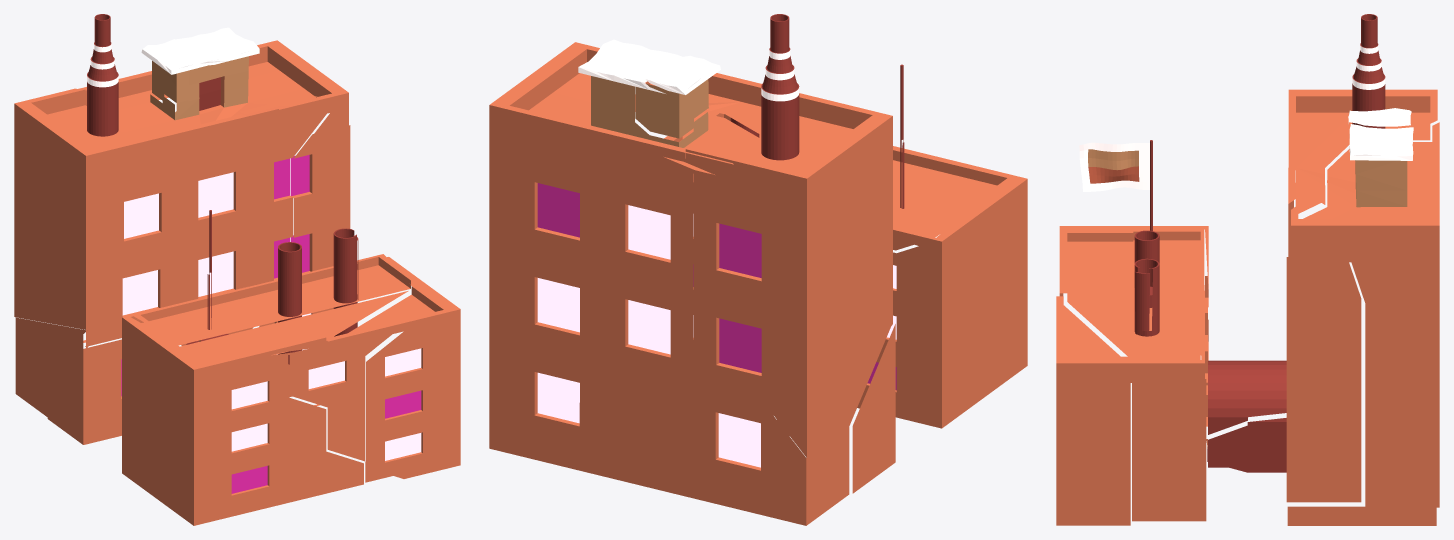
The model's file is factory-explosion.glb.
3 renders of one model, left to right at view 1: azimuth 30°, elevation 25°; view 2: azimuth 150°, elevation 25°; view 3: azimuth 270°, elevation 25°, orthographic. The views are drawn at different scales.
Parts seen in each view (by area): view 1: Cube.013, Cube.008, Cube.001, Cube.009, Cube.011, Cube.019, Cube.015, Cube.017, Cube.003, Cube.010, Cube.004, Cube.018 (+2 smaller); view 2: Cube.011, Cube.008, Cube.010, Cube.013, Cube.018, Cube.003, Cube.004, Cube.019; view 3: Cube.011, Cube.017, Cube.009, Cube.014, Cube.013, Cube.008, Cube.019, Cube.010, Cube.001, Cube.006, Cube.004, Cube.018 (+4 smaller).
Boxes of the visible parts, x1,y1,x2,y2 form: Cube.013: (122, 287, 408, 525); Cube.008: (14, 88, 278, 349); Cube.001: (85, 109, 330, 346); Cube.009: (311, 257, 460, 478); Cube.011: (78, 27, 348, 133); Cube.019: (132, 254, 410, 345); Cube.015: (272, 334, 392, 482); Cube.017: (291, 125, 350, 341); Cube.003: (47, 329, 121, 444); Cube.010: (15, 313, 311, 416); Cube.004: (87, 14, 118, 136); Cube.018: (141, 39, 215, 110); Cube.011: (489, 39, 761, 429); Cube.008: (674, 73, 892, 457); Cube.010: (489, 327, 890, 525); Cube.013: (777, 146, 1027, 435); Cube.018: (635, 55, 720, 138); Cube.003: (852, 324, 895, 493); Cube.004: (761, 14, 799, 160); Cube.019: (672, 136, 967, 237); Cube.011: (1291, 122, 1439, 507); Cube.017: (1286, 257, 1361, 502); Cube.009: (1056, 285, 1204, 525); Cube.014: (1132, 379, 1206, 521); Cube.013: (1059, 226, 1208, 394); Cube.008: (1288, 89, 1437, 207); Cube.019: (1133, 228, 1204, 359); Cube.010: (1207, 418, 1436, 525); Cube.001: (1205, 200, 1293, 467); Cube.006: (1079, 142, 1149, 191); Cube.004: (1352, 14, 1385, 128); Cube.018: (1348, 108, 1411, 126).
Bounding box in the file's own units: 5.38 × 7.44 × 6.41.
